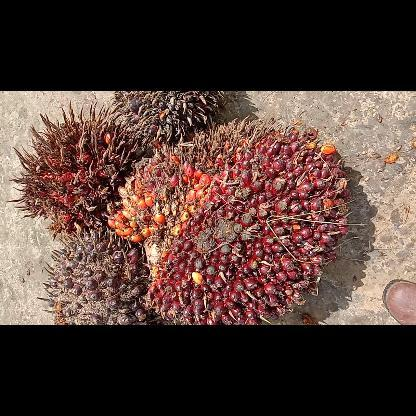Kurang masak: (40, 228, 150, 324)
TBS abnormal: (112, 91, 230, 145)
TBS masak: (108, 116, 354, 324)
Terlalu masak: (12, 103, 144, 224)
